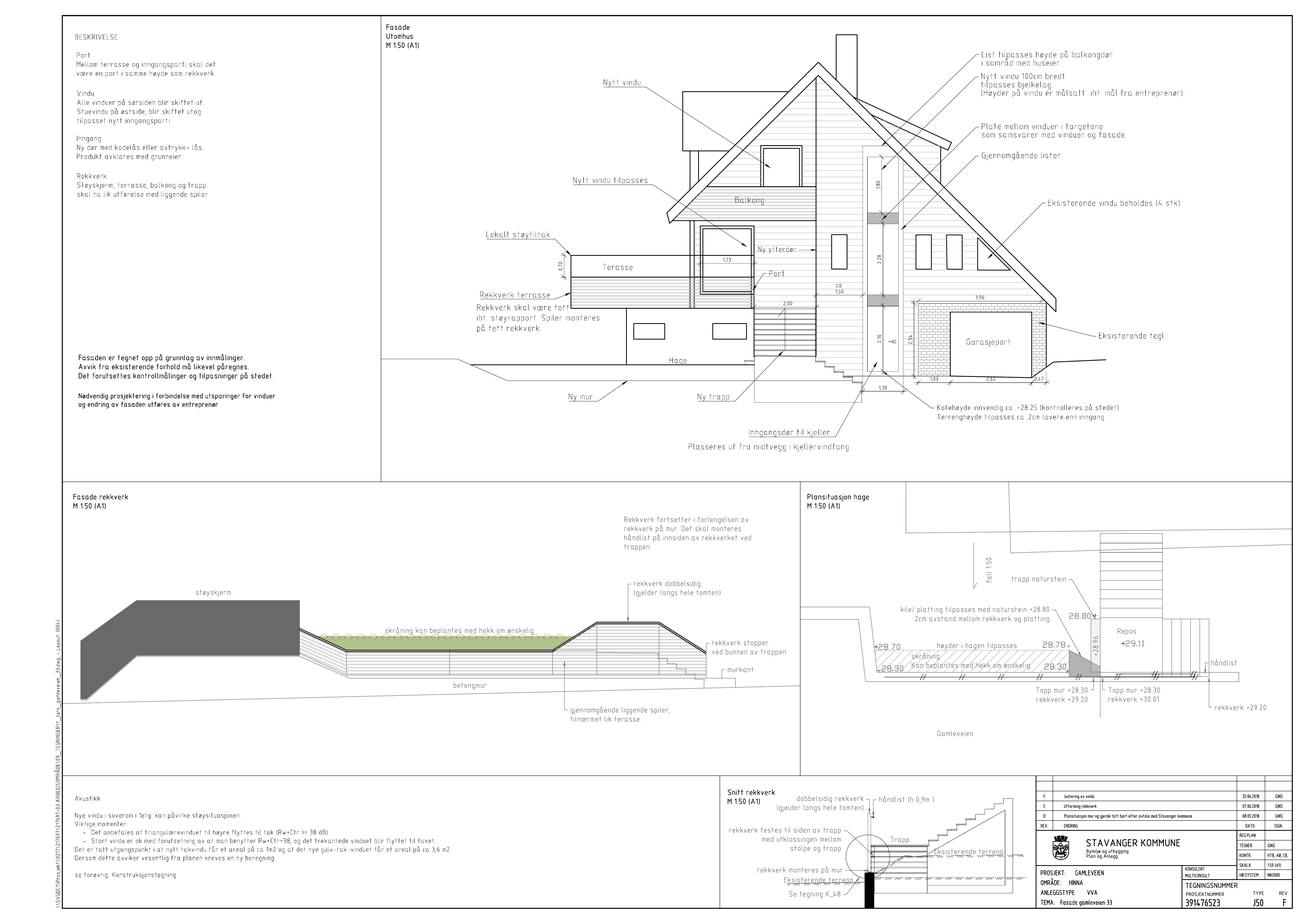fasade: (571, 34, 1057, 389), (82, 600, 736, 701)
plantegning: (855, 534, 1239, 682)
snitt: (863, 798, 1014, 894)
